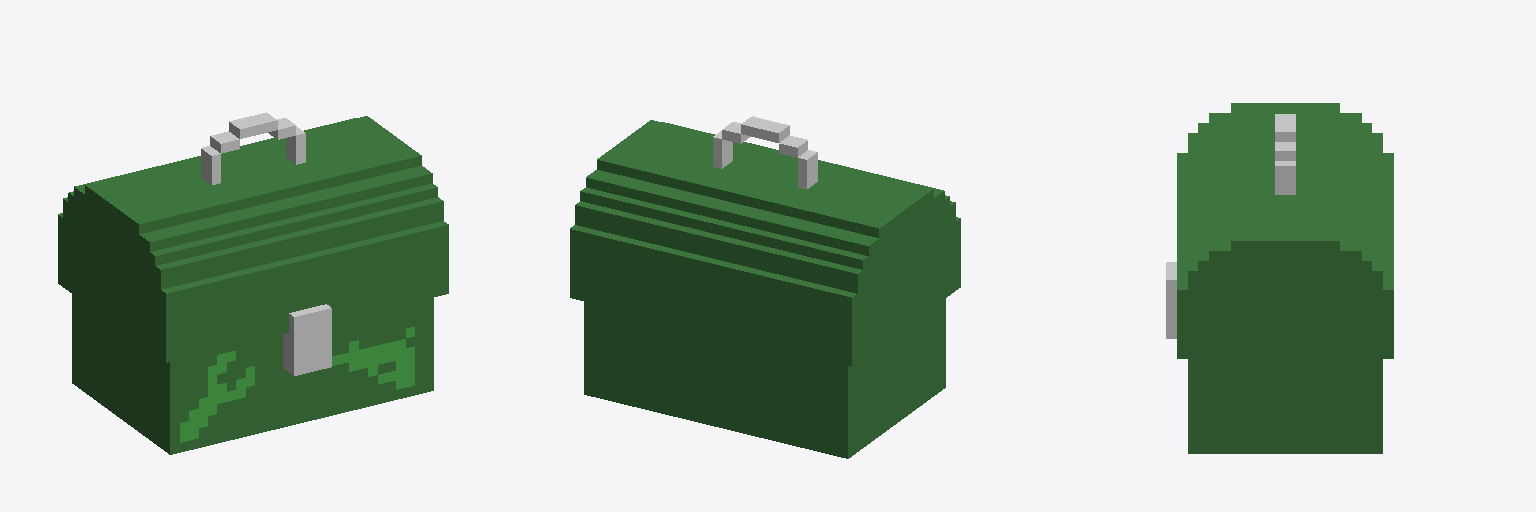
The picture shows the model from 3 angles: view 1: azimuth 30°, elevation 25°; view 2: azimuth 150°, elevation 25°; view 3: azimuth 270°, elevation 25°; orthographic projection.
Parts seen in each view (by area): view 1: object 1; view 2: object 1; view 3: object 1.
Boxes of the visible parts, <box> form: object 1: <box>58,112,448,454</box>; object 1: <box>570,116,960,458</box>; object 1: <box>1166,103,1393,453</box>.
Bounding box in the file's own units: 3 × 2.7 × 2.1.
1 materials, 1 textured.